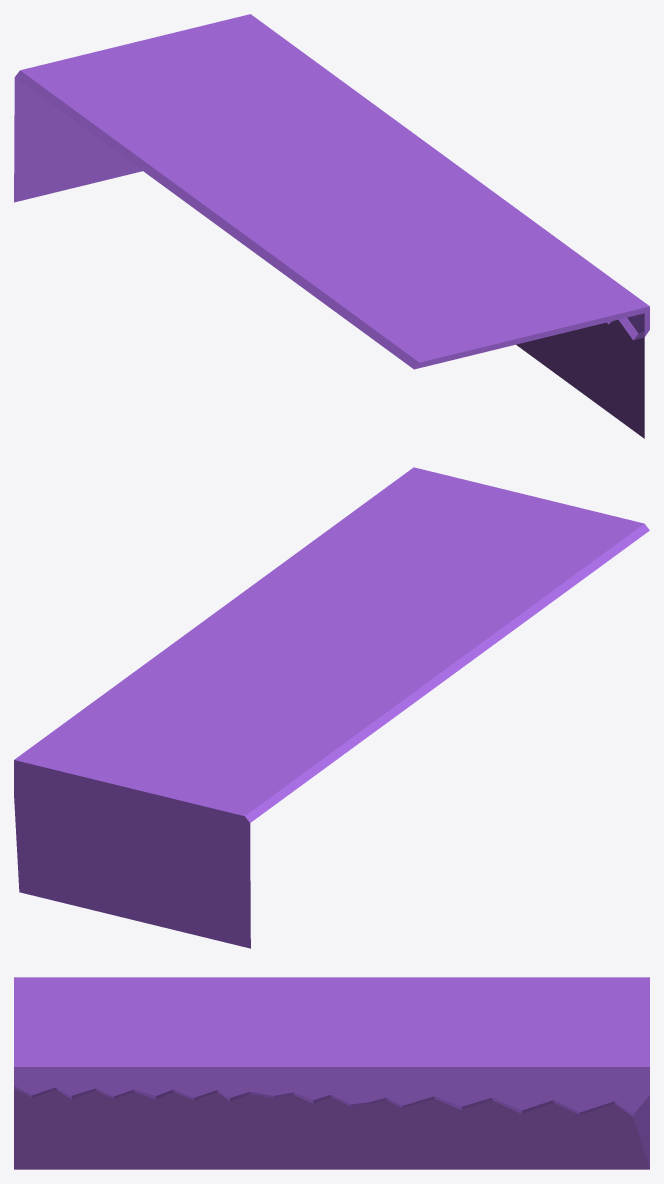
Rendered from normalPathRightEnd.fbx.
3 views of the same model, one above another, from view 1: azimuth 30°, elevation 25°; view 2: azimuth 150°, elevation 25°; view 3: azimuth 270°, elevation 25° (orthographic). The views are drawn at different scales.
Parts seen in each view (by area): view 1: Cube; view 2: Cube; view 3: Cube.
Boxes of the visible parts, box(x1,y1,x2,y2) form: Cube: box(14, 14, 649, 438); Cube: box(14, 467, 649, 948); Cube: box(14, 977, 649, 1169).
Bounding box in the file's own units: 209 × 109 × 600.
